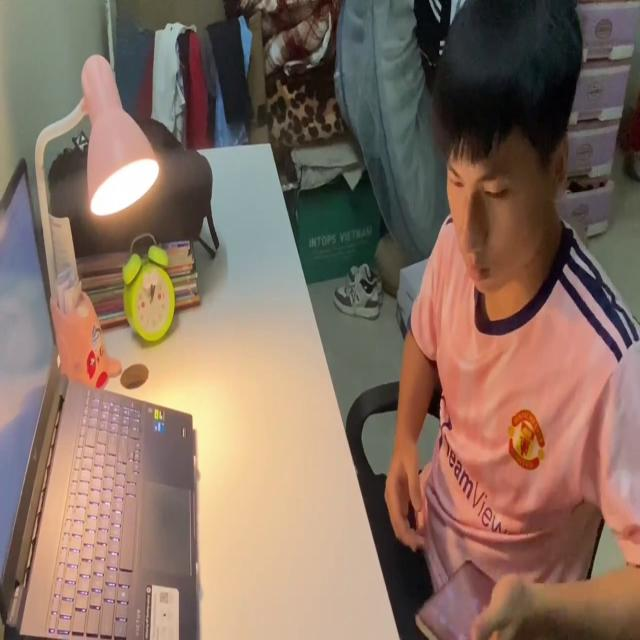laptop: (1, 159, 197, 640)
phone: (414, 553, 504, 640)
student: (385, 0, 640, 640)
